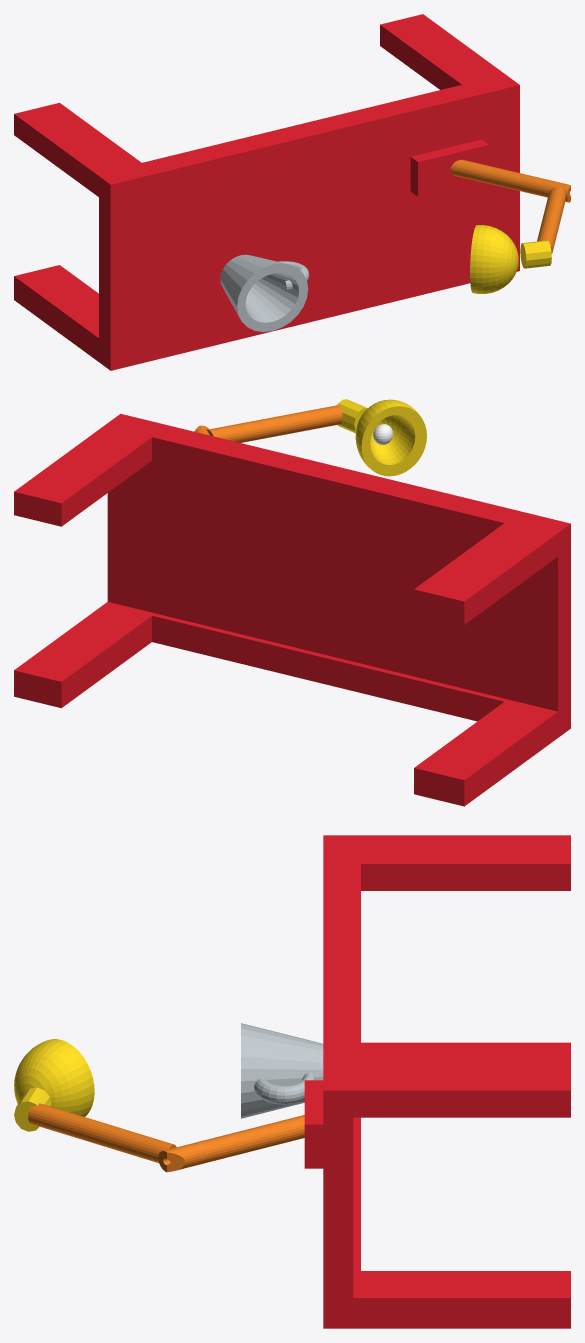
The model's file is tinker.obj.
3 renders of one model, top to bottom at view 1: azimuth 30°, elevation 25°; view 2: azimuth 150°, elevation 25°; view 3: azimuth 270°, elevation 25°, orthographic. The views are drawn at different scales.
Visible parts, largest first — view 1: group_0_15277357, group_0_12568524, group_0_16768282, group_0_16089887; view 2: group_0_15277357, group_0_16768282, group_0_16089887; view 3: group_0_15277357, group_0_16089887, group_0_12568524, group_0_16768282.
Part boxes in pixels (<box>): group_0_15277357: <box>14,14,519,370</box>; group_0_12568524: <box>220,254,309,331</box>; group_0_16768282: <box>470,225,551,293</box>; group_0_16089887: <box>450,159,570,253</box>; group_0_15277357: <box>14,413,570,806</box>; group_0_16768282: <box>337,399,426,476</box>; group_0_16089887: <box>194,405,342,442</box>; group_0_15277357: <box>304,835,570,1328</box>; group_0_16089887: <box>28,1103,304,1172</box>; group_0_12568524: <box>241,1023,323,1118</box>; group_0_16768282: <box>14,1039,94,1131</box>.
Bounding box in the file's own units: 161 × 70 × 149.
